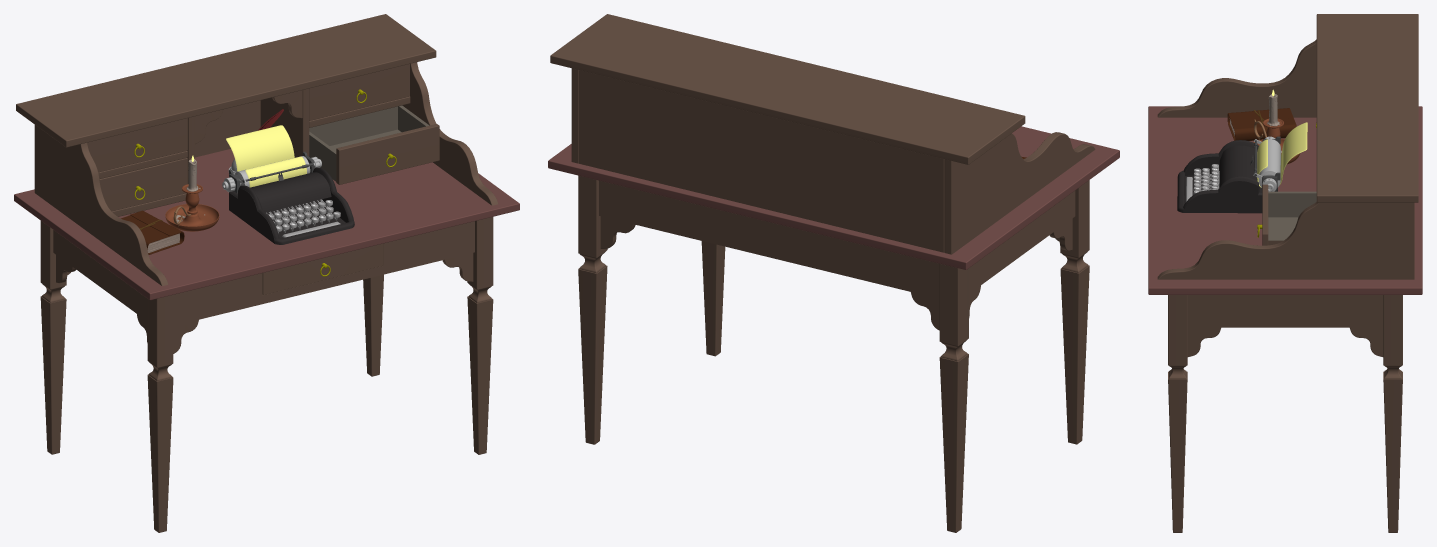
Rendered from mesa do quarto de solteiro.fbx.
3 views of the same model, side by side, from view 1: azimuth 30°, elevation 25°; view 2: azimuth 150°, elevation 25°; view 3: azimuth 270°, elevation 25° (orthographic). The views are drawn at different scales.
Visible parts, largest first — view 1: mesa, maquina de escrever, vela, diario; view 2: mesa; view 3: mesa, maquina de escrever, diario, vela.
Boxes of the visible parts, box(x1,y1,x2,y2) form: mesa: box(14, 14, 519, 532); maquina de escrever: box(222, 125, 354, 244); vela: box(165, 159, 219, 231); diario: box(121, 210, 184, 254); mesa: box(548, 14, 1119, 532); mesa: box(1148, 14, 1422, 532); maquina de escrever: box(1177, 122, 1307, 213); diario: box(1227, 108, 1296, 140); vela: box(1253, 94, 1300, 164).
Bounding box in the file's own units: 273 × 243 × 174.
